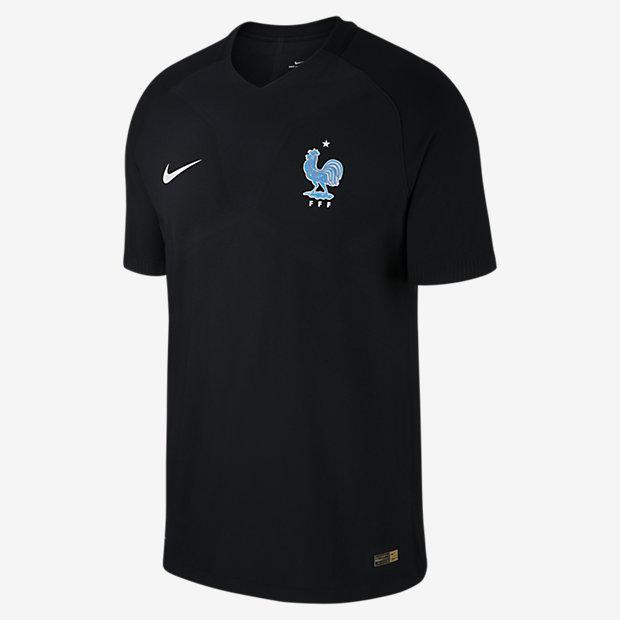teeshirt: (107, 14, 517, 608)
